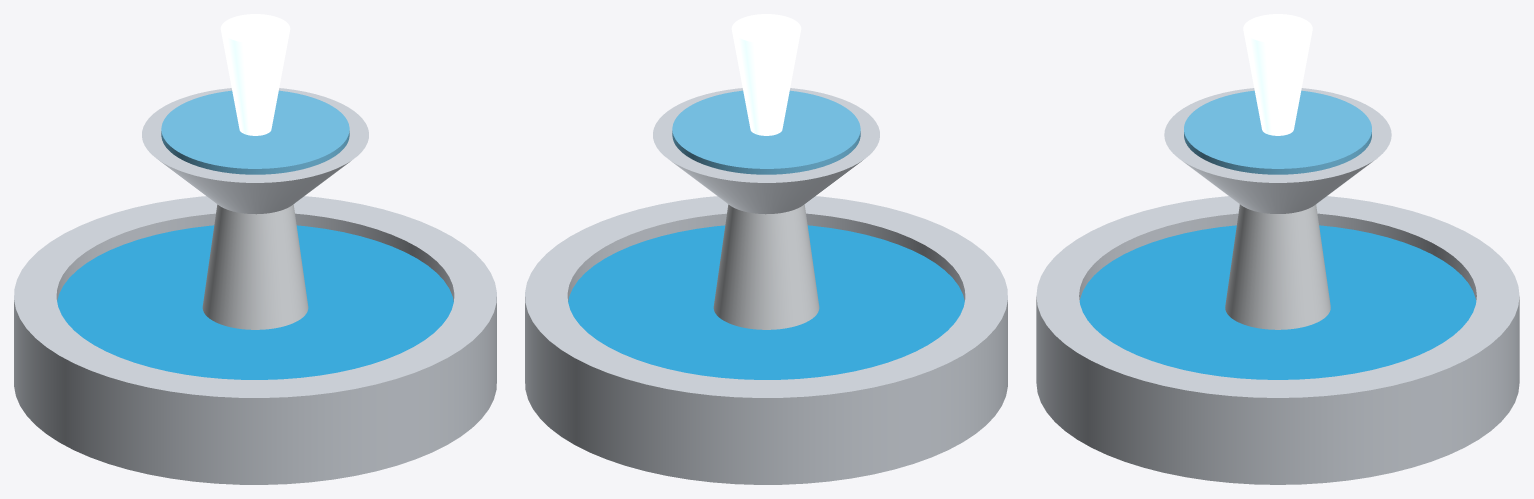
The model's file is park_fountain.glb.
The picture shows the model from 3 angles, left to right: view 1: azimuth 30°, elevation 25°; view 2: azimuth 150°, elevation 25°; view 3: azimuth 270°, elevation 25°; orthographic projection.
Parts seen in each view (by area): view 1: f_wall, f_water, f_uwater, f_ped, f_bowl, f_plume; view 2: f_wall, f_water, f_uwater, f_ped, f_bowl, f_plume; view 3: f_wall, f_water, f_uwater, f_ped, f_bowl, f_plume.
Part boxes in pixels (<box>): f_wall: <box>14,196,496,484</box>; f_water: <box>57,225,453,379</box>; f_uwater: <box>161,90,349,174</box>; f_ped: <box>202,204,308,329</box>; f_bowl: <box>142,88,368,214</box>; f_plume: <box>220,14,290,135</box>; f_wall: <box>525,196,1007,484</box>; f_water: <box>568,225,964,379</box>; f_uwater: <box>672,90,860,174</box>; f_ped: <box>713,204,819,329</box>; f_bowl: <box>653,88,879,214</box>; f_plume: <box>731,14,801,135</box>; f_wall: <box>1036,196,1519,484</box>; f_water: <box>1079,225,1476,379</box>; f_uwater: <box>1184,90,1371,174</box>; f_ped: <box>1225,204,1330,329</box>; f_bowl: <box>1164,88,1391,213</box>; f_plume: <box>1243,14,1312,135</box>.
Size of the model in its own units: 0.68 by 0.55 by 0.68.
